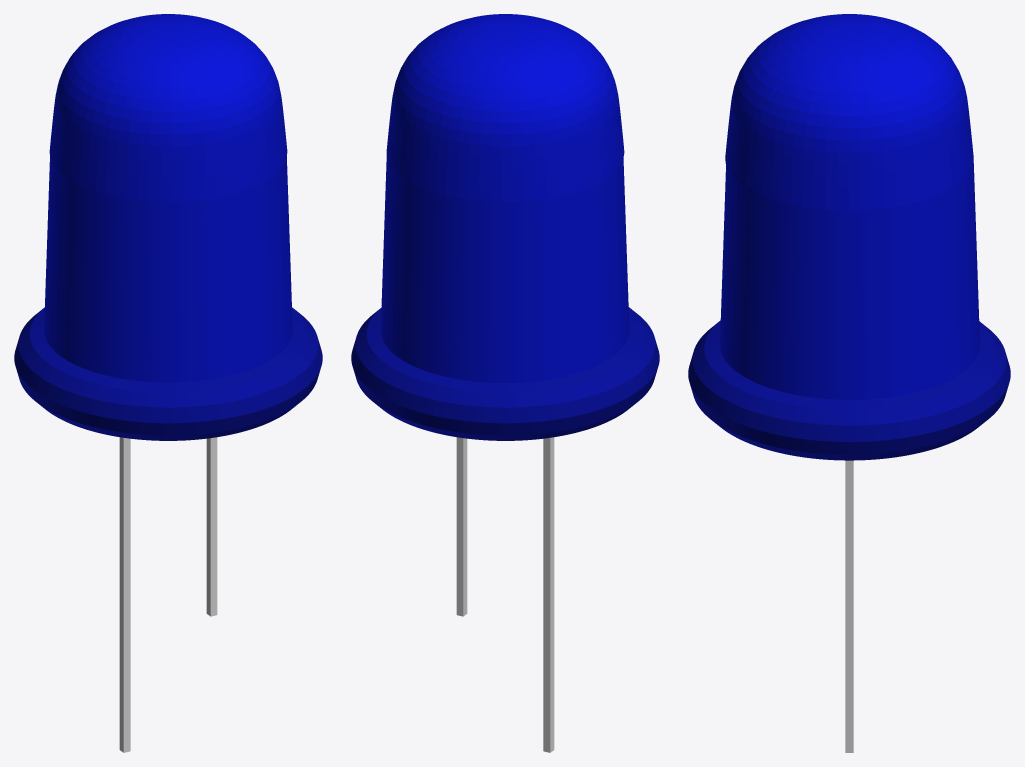
The model's file is LED Blue.fbx.
3 renders of one model, left to right at view 1: azimuth 30°, elevation 25°; view 2: azimuth 150°, elevation 25°; view 3: azimuth 270°, elevation 25°, orthographic. The views are drawn at different scales.
Visible parts, largest first — view 1: Cylinder, Sphere, Torus, Cube, Cube.001; view 2: Cylinder, Sphere, Torus, Cube, Cube.001; view 3: Cylinder, Sphere, Torus, Cube.001, Cube.
Part boxes in pixels (x1,y1,x2,y2): Cylinder: (44, 156, 292, 382); Sphere: (49, 14, 287, 201); Torus: (14, 307, 322, 440); Cube: (119, 437, 130, 752); Cube.001: (206, 437, 217, 616); Cylinder: (380, 154, 629, 382); Sphere: (386, 14, 624, 201); Torus: (351, 307, 659, 440); Cube: (543, 437, 554, 752); Cube.001: (456, 437, 467, 616); Cylinder: (720, 161, 979, 399); Sphere: (725, 14, 973, 210); Torus: (688, 320, 1010, 460); Cube.001: (845, 460, 853, 676); Cube: (845, 677, 853, 752).
Size of the model in its own units: 164 by 415 by 164.
